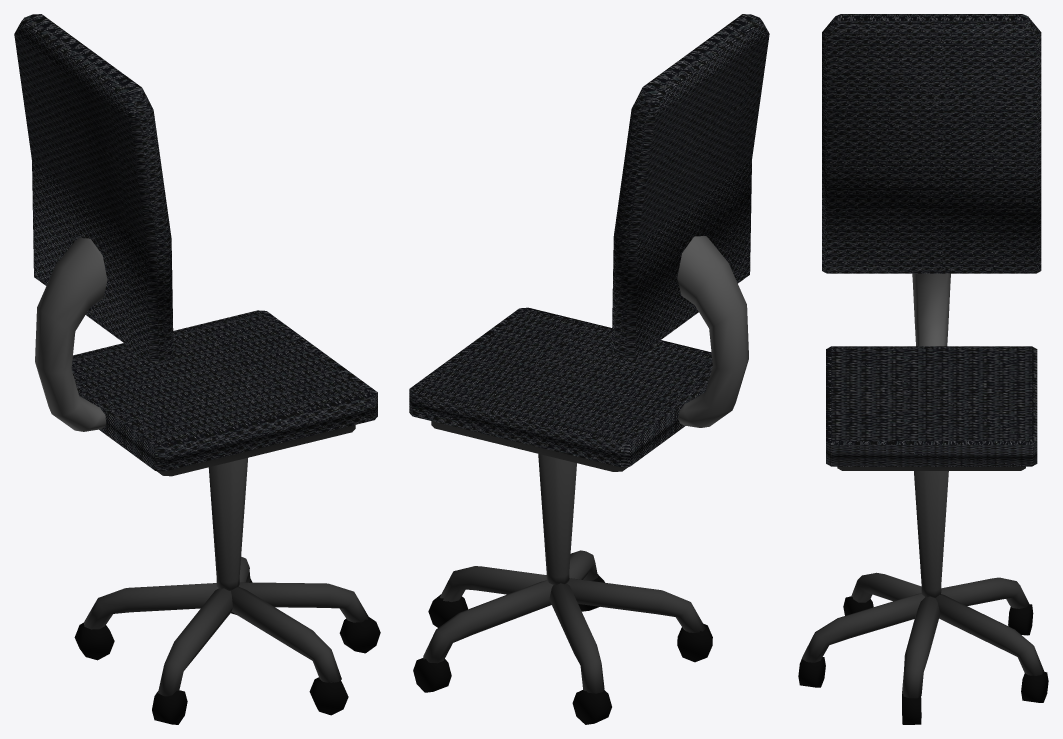
The model's file is Chair.fbx.
The picture shows the model from 3 angles, left to right: view 1: azimuth 30°, elevation 25°; view 2: azimuth 150°, elevation 25°; view 3: azimuth 270°, elevation 25°; orthographic projection. The views are drawn at different scales.
Parts seen in each view (by area): view 1: Cube.001, Cylinder.005, Cube.002; view 2: Cube.001, Cylinder.005, Cube.002; view 3: Cube.001, Cylinder.005, Cube.002.
Part boxes in pixels (bbox=[...]): Cube.001: bbox=[14, 14, 377, 476]; Cylinder.005: bbox=[74, 458, 380, 724]; Cube.002: bbox=[35, 238, 107, 431]; Cube.001: bbox=[409, 14, 769, 471]; Cylinder.005: bbox=[413, 454, 712, 724]; Cube.002: bbox=[677, 236, 748, 427]; Cube.001: bbox=[822, 14, 1041, 470]; Cylinder.005: bbox=[798, 471, 1048, 724]; Cube.002: bbox=[912, 273, 950, 346].
Bounding box in the file's own units: 145 × 278 × 107.
